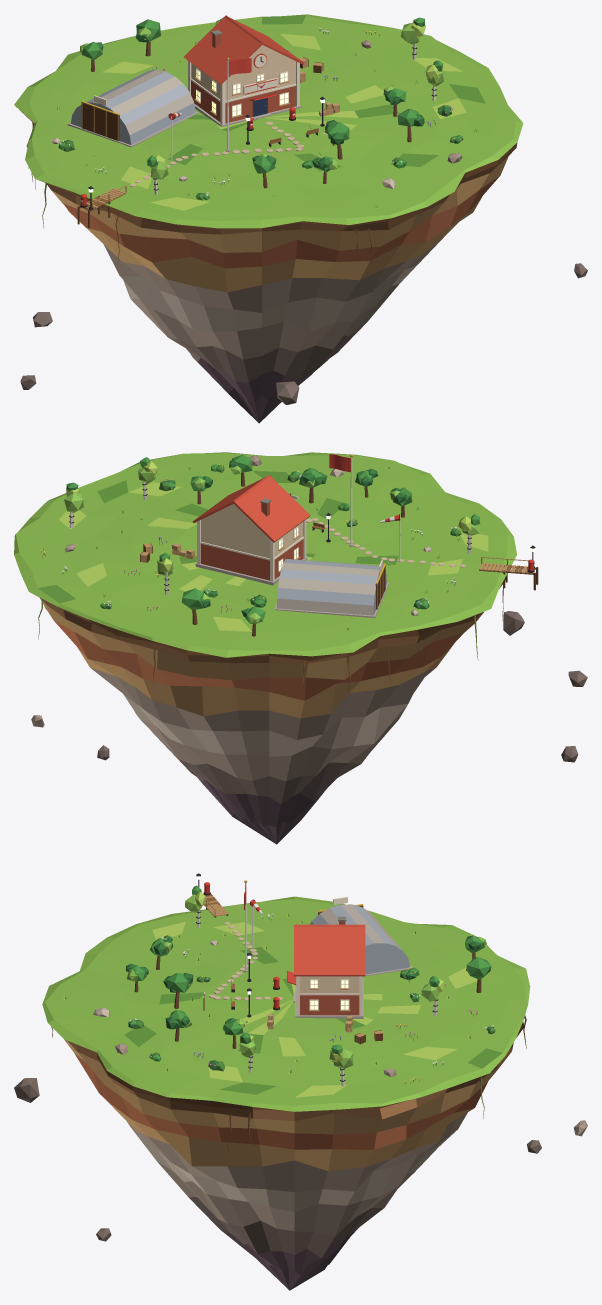
File: island_post_office.glb
The picture shows the model from 3 angles, top to bottom: view 1: azimuth 30°, elevation 25°; view 2: azimuth 150°, elevation 25°; view 3: azimuth 270°, elevation 25°; orthographic projection. The views are drawn at different scales.
Parts seen in each view (by area): view 1: Island-col, Dressing, Debris; view 2: Island-col, Dressing, Debris, Roots; view 3: Island-col, Dressing, Debris.
Part boxes in pixels (bbox=[...]): Island-col: bbox=[14, 14, 523, 423]; Dressing: bbox=[52, 15, 477, 227]; Debris: bbox=[20, 263, 587, 404]; Island-col: bbox=[14, 452, 516, 844]; Dressing: bbox=[41, 454, 538, 636]; Debris: bbox=[31, 611, 587, 762]; Roots: bbox=[38, 583, 503, 706]; Island-col: bbox=[42, 896, 530, 1290]; Dressing: bbox=[63, 873, 495, 1086]; Debris: bbox=[14, 1078, 587, 1241].
Size of what is drawn, in the model's own units: 81.4 by 60.81 by 82.18.
